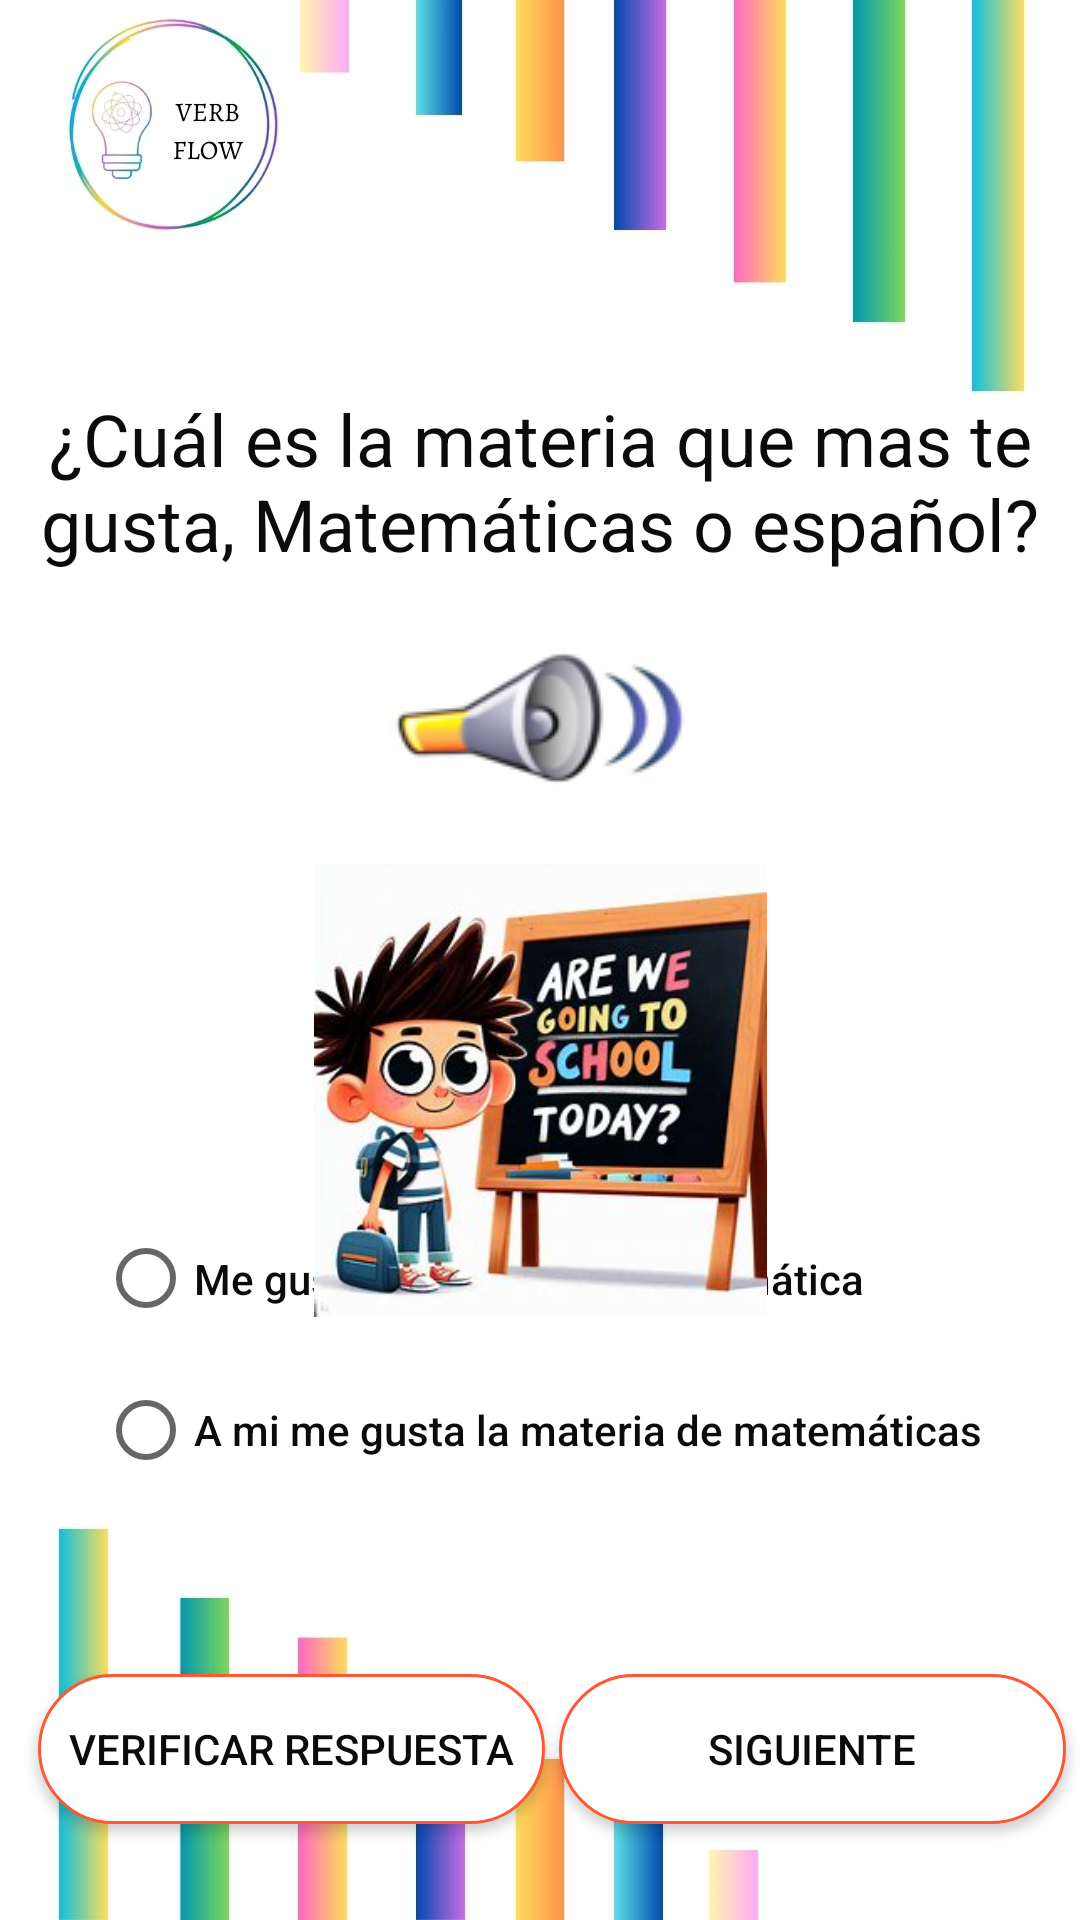

Icons on this 1080px x 1920px Android screen, each with its box as [x1, y1, x2, y2]:
altavoz: [397, 654, 682, 782]
